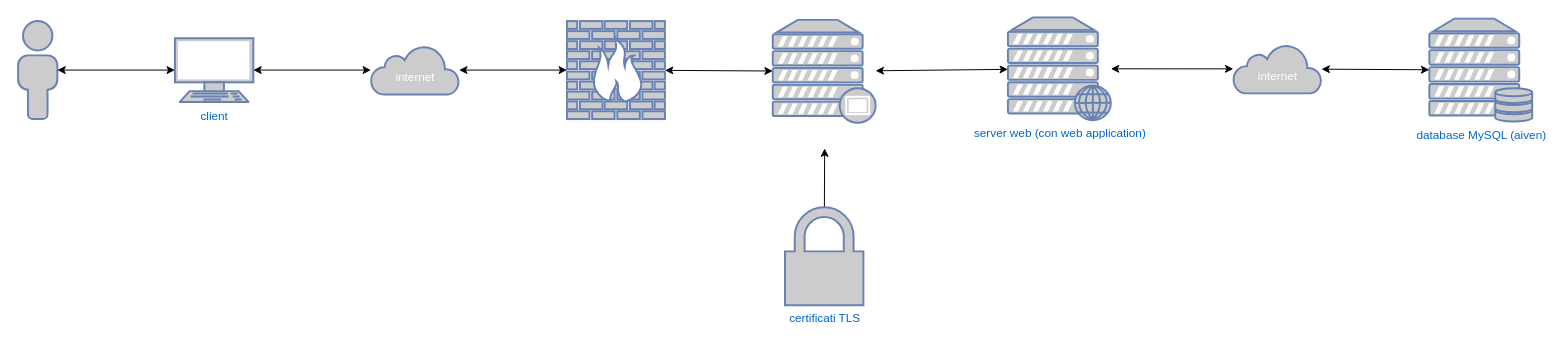
Image size: 1562x343. Some labels were removed from this diagram. The box of each missing label's shape, as (x1, y1, x2, y2) in pixels:
firewall: (565, 20, 665, 120)
server proxy (nginx): (771, 18, 876, 123)
utente: (17, 20, 58, 120)
